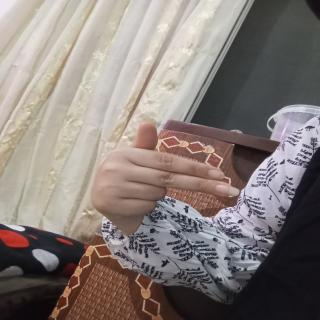GHAYN: (85, 117, 245, 233)
